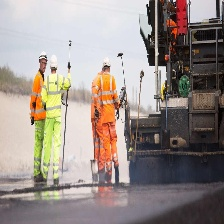helmet: (37, 50, 48, 68), (101, 54, 112, 71), (49, 55, 59, 71)
person: (95, 57, 121, 187), (43, 55, 65, 186), (31, 50, 48, 184)
vest: (98, 71, 118, 122), (44, 73, 65, 120), (30, 71, 48, 123)
